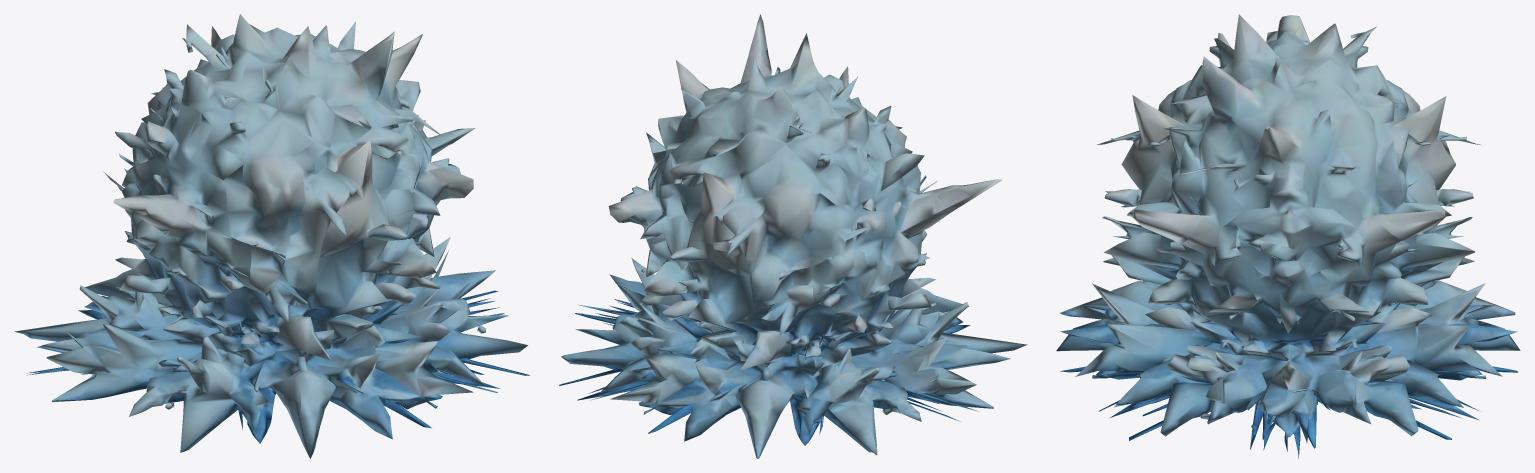
The model's file is ice_v.glb.
3 views of the same model, side by side, from view 1: azimuth 30°, elevation 25°; view 2: azimuth 150°, elevation 25°; view 3: azimuth 270°, elevation 25° (orthographic). The views are drawn at different scales.
Parts seen in each view (by area): view 1: tripo_node_69f49834-130b-41ab-a393-d7c15b35d8ba; view 2: tripo_node_69f49834-130b-41ab-a393-d7c15b35d8ba; view 3: tripo_node_69f49834-130b-41ab-a393-d7c15b35d8ba.
Boxes of the visible parts, x1,y1,x2,y2 form: tripo_node_69f49834-130b-41ab-a393-d7c15b35d8ba: (14,14,529,458); tripo_node_69f49834-130b-41ab-a393-d7c15b35d8ba: (559,14,1027,458); tripo_node_69f49834-130b-41ab-a393-d7c15b35d8ba: (1056,14,1520,458).
Size of the model in its own units: 0.9787 by 0.7141 by 0.8673.
1 material, 1 textured.
